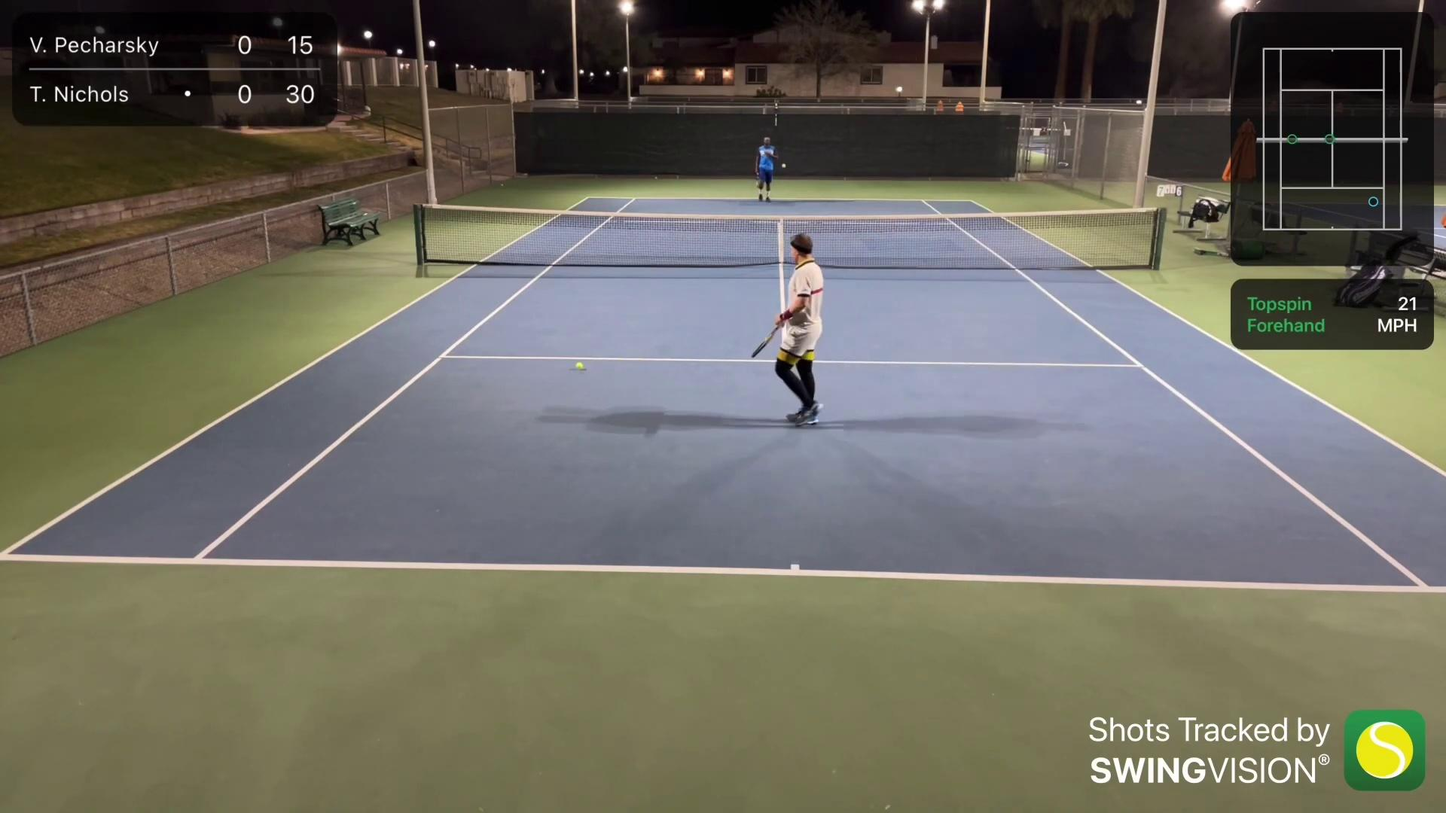ball: (570, 357, 586, 371), (779, 161, 786, 168)
